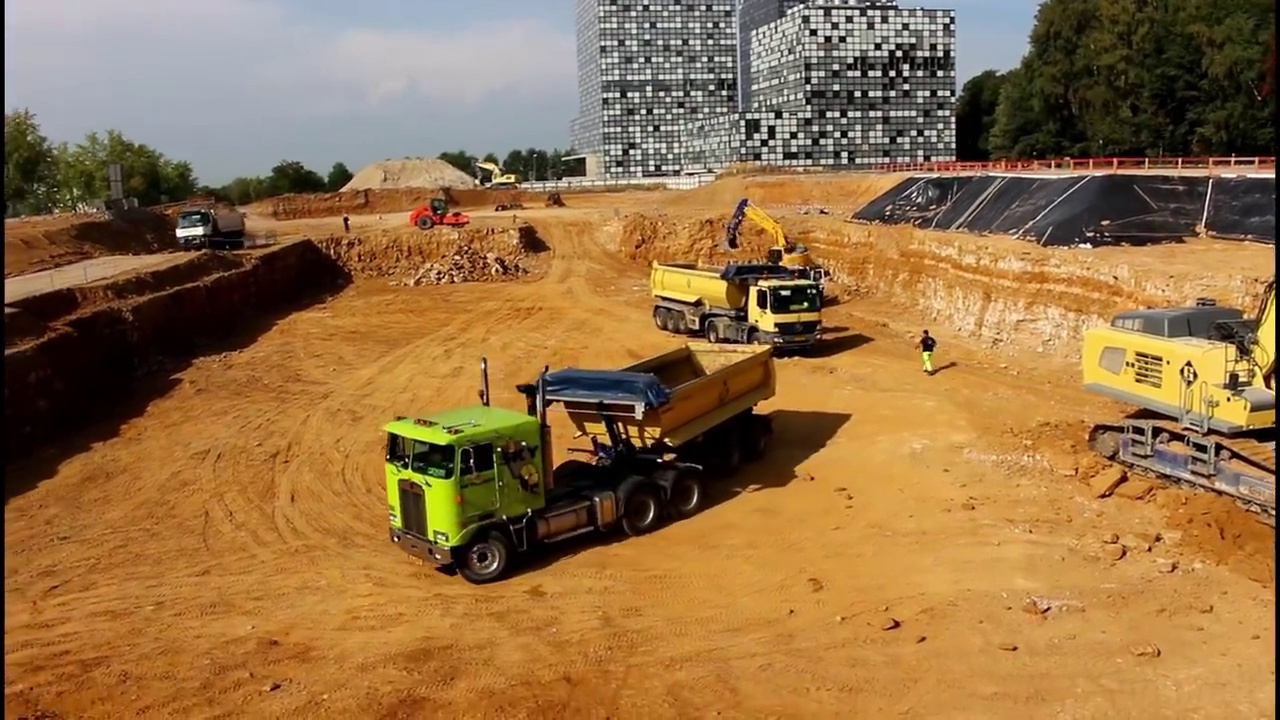compactor: (409, 193, 474, 233)
excavator: (1077, 272, 1280, 530), (720, 195, 824, 313), (469, 157, 522, 190)
truck: (382, 341, 779, 586), (648, 259, 827, 354), (174, 207, 251, 254)
worker: (913, 326, 940, 376), (340, 212, 354, 238)
